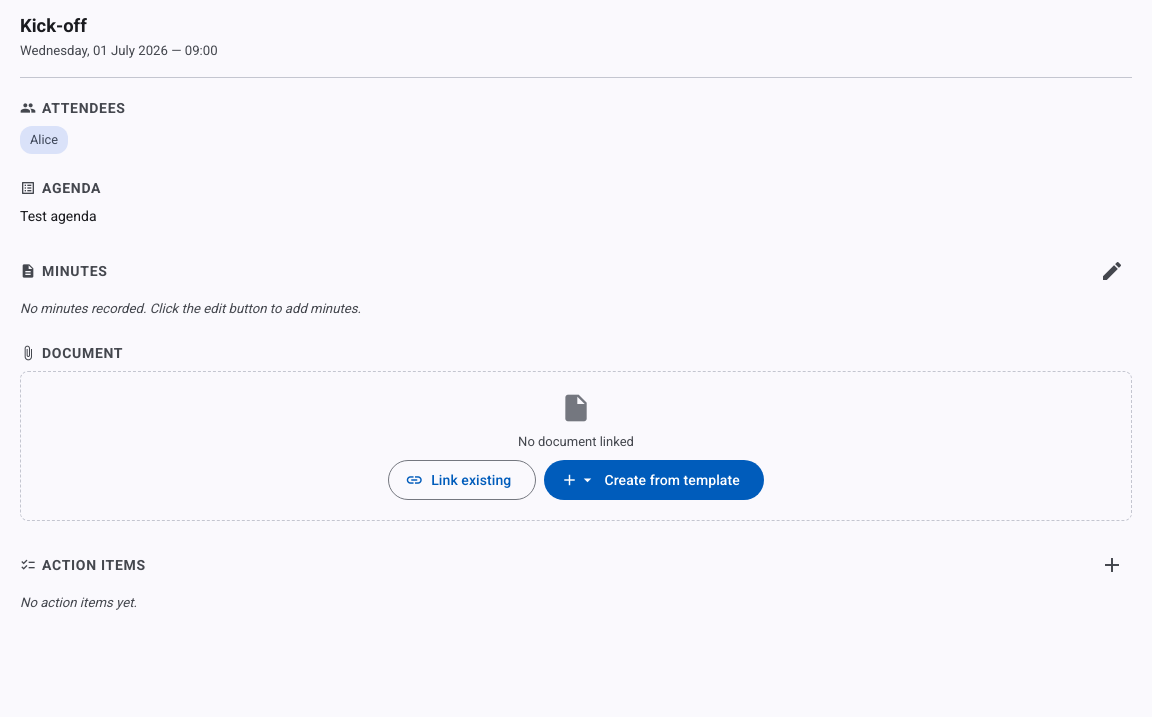
Scenario: MeetingDetailComponent › shows minutes textarea after edit-minutes click
What coordinates should you click on to do the following:
click the button named "Edit minutes"
I would click on:
 (1112, 271)
Its box is [1092, 251, 1132, 291].
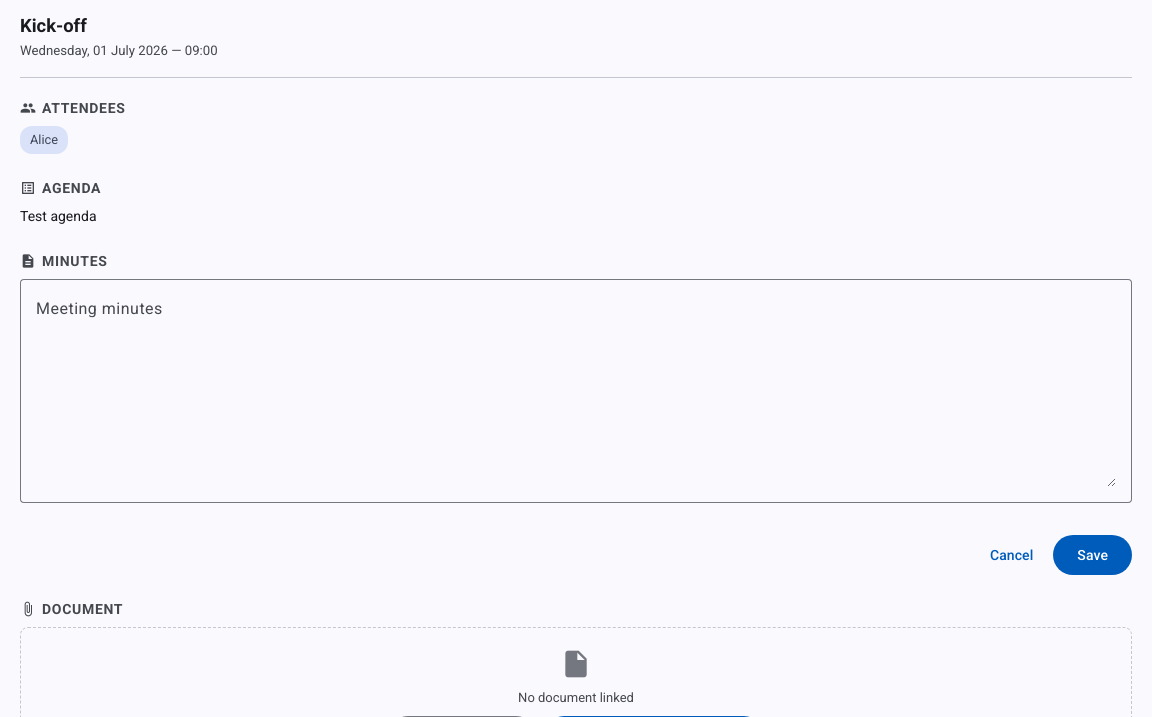
Result: the form with class "md__minutes-form" is shown at [20, 279, 1132, 575]
